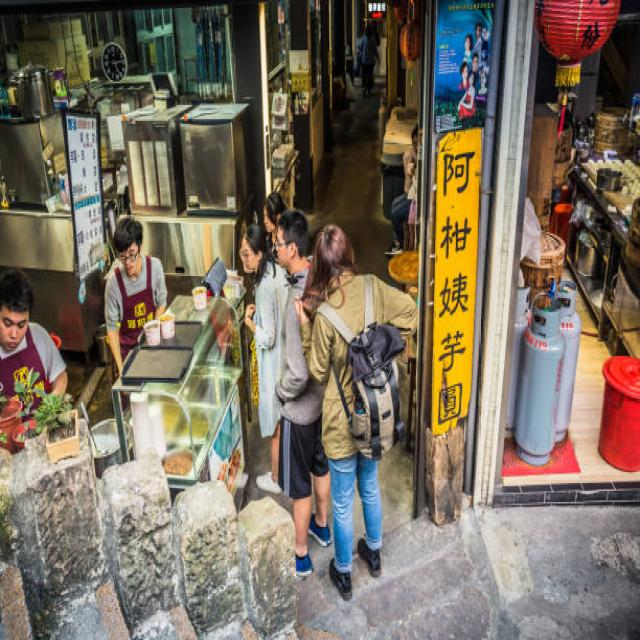Emperan: (105, 206, 282, 516)
